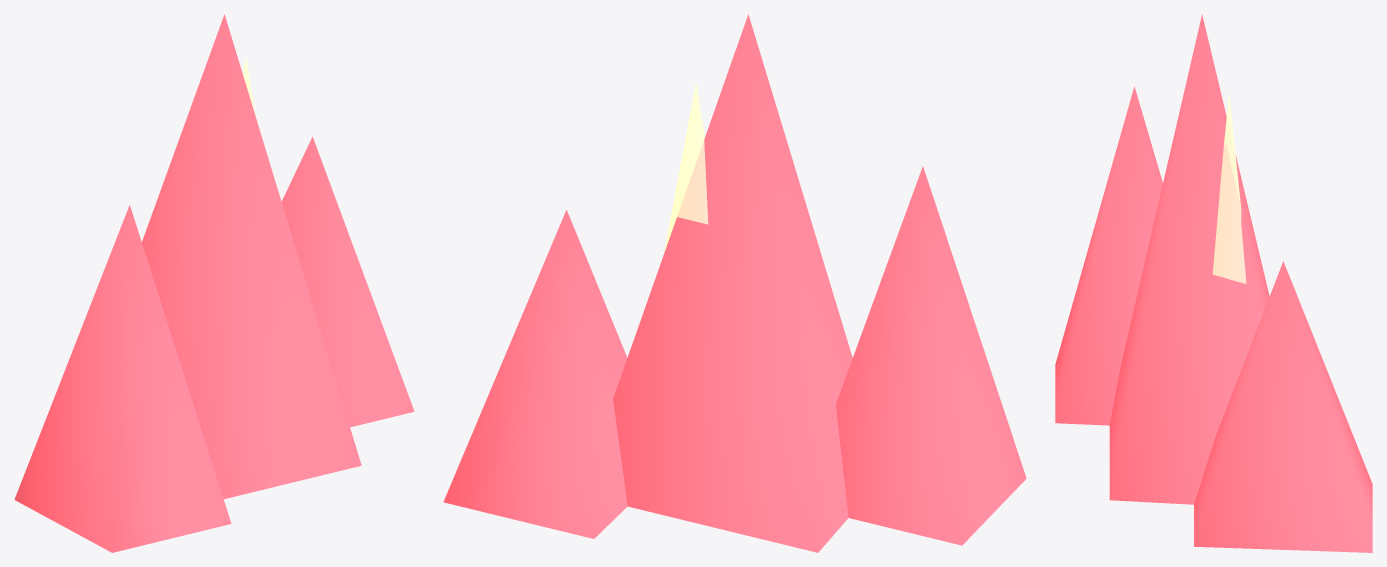
Rendered from hazard_crystal.gltf.
The picture shows the model from 3 angles, left to right: view 1: azimuth 30°, elevation 25°; view 2: azimuth 150°, elevation 25°; view 3: azimuth 270°, elevation 25°; orthographic projection. The views are drawn at different scales.
Visible parts, largest first — view 1: hazard_crystal; view 2: hazard_crystal; view 3: hazard_crystal.
Part boxes in pixels (x1=…): hazard_crystal: x1=14, y1=14, x2=414, y2=552; hazard_crystal: x1=443, y1=14, x2=1026, y2=552; hazard_crystal: x1=1055, y1=14, x2=1372, y2=552.
Bounding box in the file's own units: 0.69 × 0.72 × 0.469.
